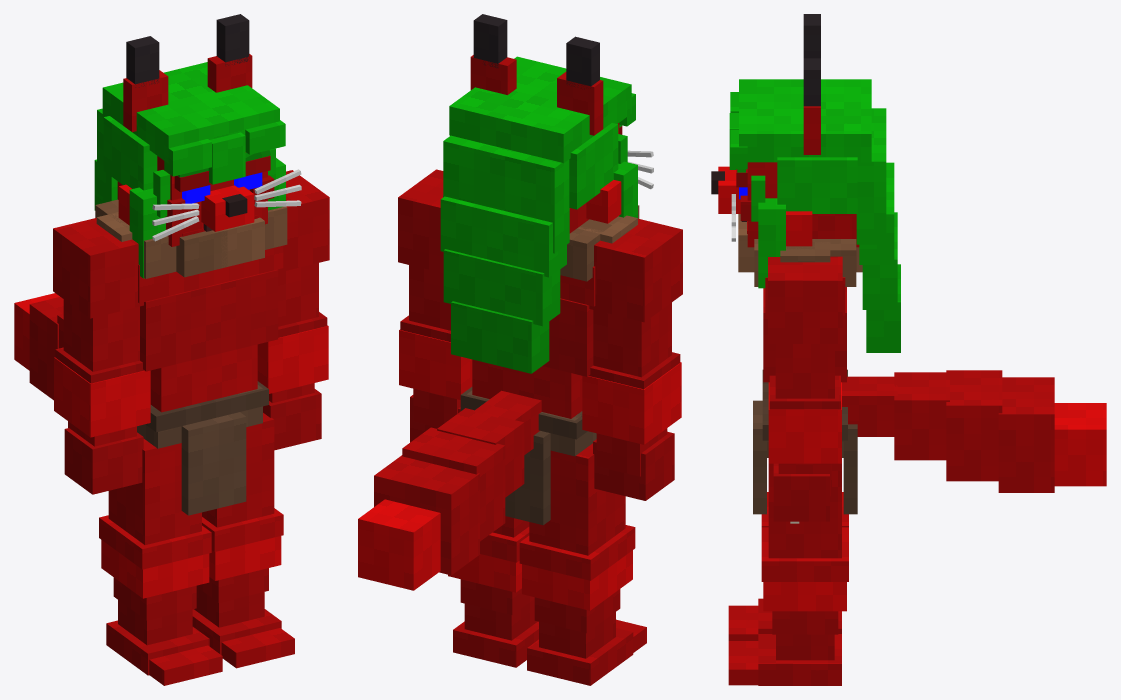
Rendered from beastfolk_s2_evo1.glb.
3 views of the same model, side by side, from view 1: azimuth 30°, elevation 25°; view 2: azimuth 150°, elevation 25°; view 3: azimuth 270°, elevation 25° (orthographic). The views are drawn at different scales.
Visible parts, largest first — view 1: Torso, Head, ArmR, LegR, LegL, ArmL; view 2: Head, Torso, ArmR, LegR, ArmL, LegL; view 3: Head, Torso, ArmL, LegL, LegR.
Boxes of the visible parts, box(x1,y1,x2,y2) form: Torso: box(14, 199, 287, 515); Head: box(94, 14, 301, 278); ArmR: box(53, 218, 150, 494); LegR: box(99, 439, 222, 685); LegL: box(192, 413, 294, 668); ArmL: box(257, 170, 329, 450); Head: box(440, 14, 653, 373); Torso: box(358, 195, 639, 590); ArmR: box(582, 218, 682, 500); LegR: box(519, 443, 646, 685); ArmL: box(398, 169, 472, 442); LegL: box(448, 516, 538, 667); Head: box(711, 14, 900, 352); Torso: box(738, 214, 1106, 514); ArmL: box(768, 256, 842, 523); LegL: box(728, 463, 848, 685); LegR: box(728, 492, 848, 640).
Size of the model in its own units: 0.797 by 1.93 by 1.14.
28 materials, 28 textured.
